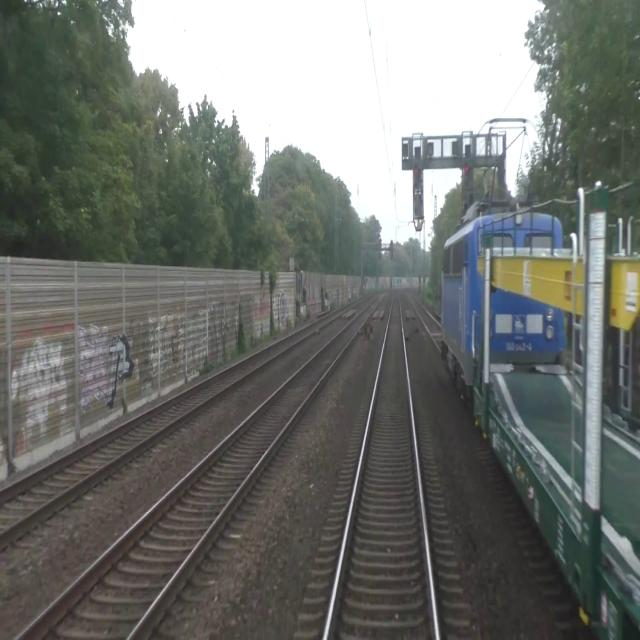rail-track: (21, 295, 382, 639), (0, 302, 355, 529), (326, 292, 434, 639), (409, 295, 440, 345)
